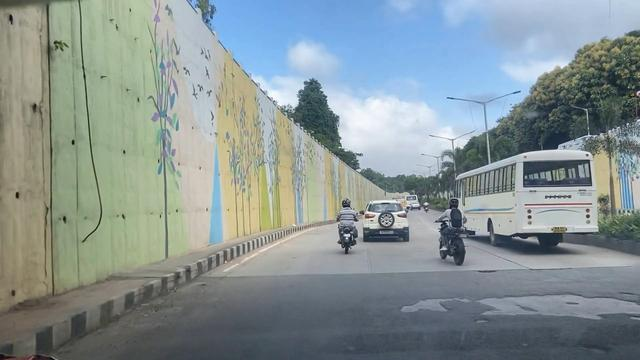LMV: (450, 154, 596, 248), (438, 200, 470, 261), (367, 201, 411, 242), (339, 199, 358, 252)
RoadDamages: (393, 292, 640, 329), (474, 263, 498, 282)
